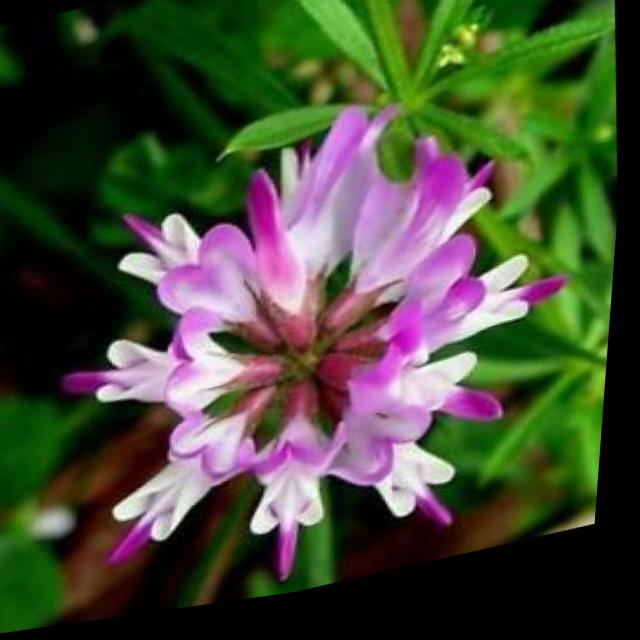Flower: (58, 82, 598, 629)
